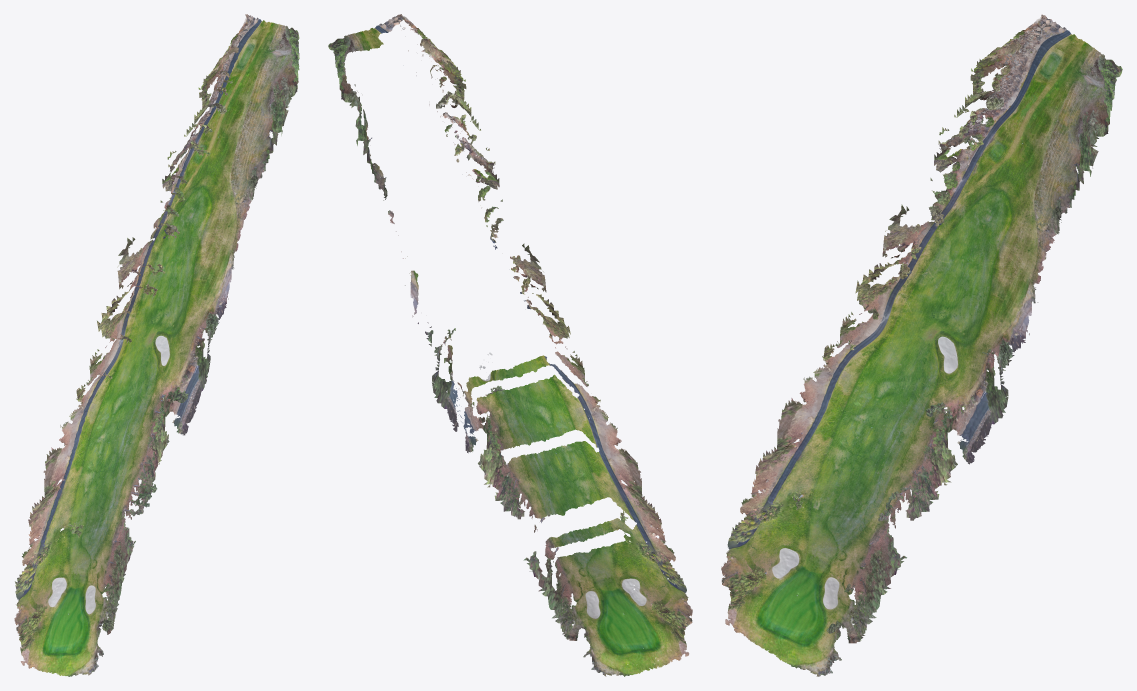
3 renders of one model, left to right at view 1: azimuth 30°, elevation 25°; view 2: azimuth 150°, elevation 25°; view 3: azimuth 330°, elevation 25°, orthographic. The views are drawn at different scales.
Bounding box in the file's own units: 181 × 330 × 34.48.
15 materials, 15 textured.
